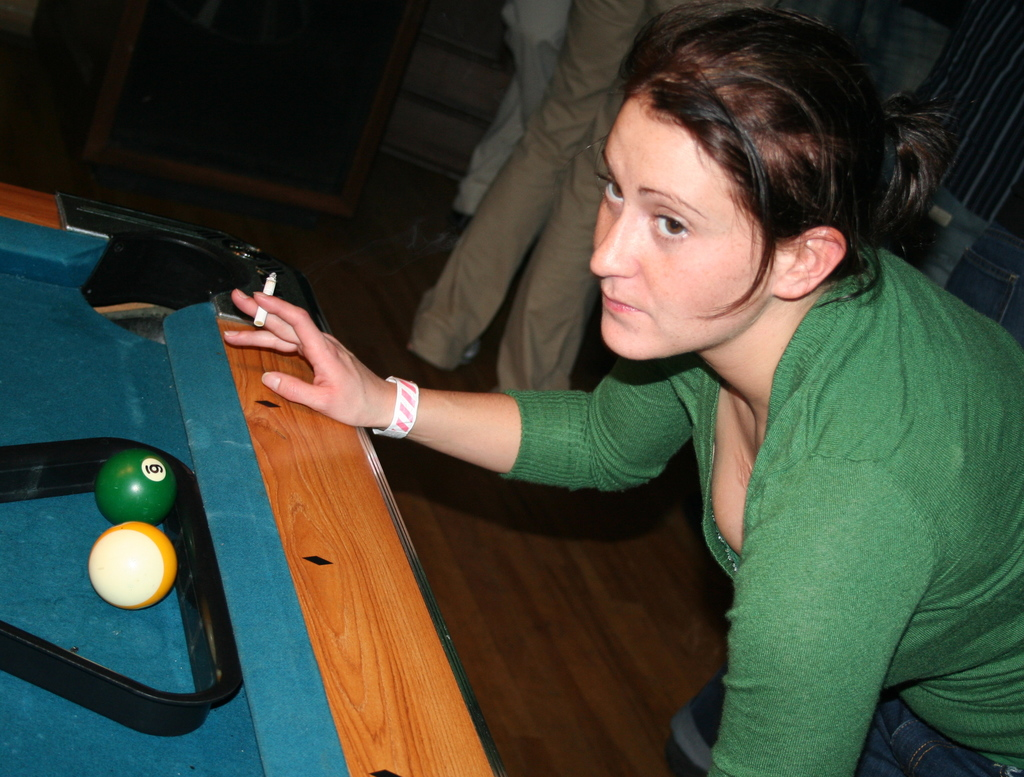Ball: (93, 521, 176, 610), (97, 452, 173, 528)
